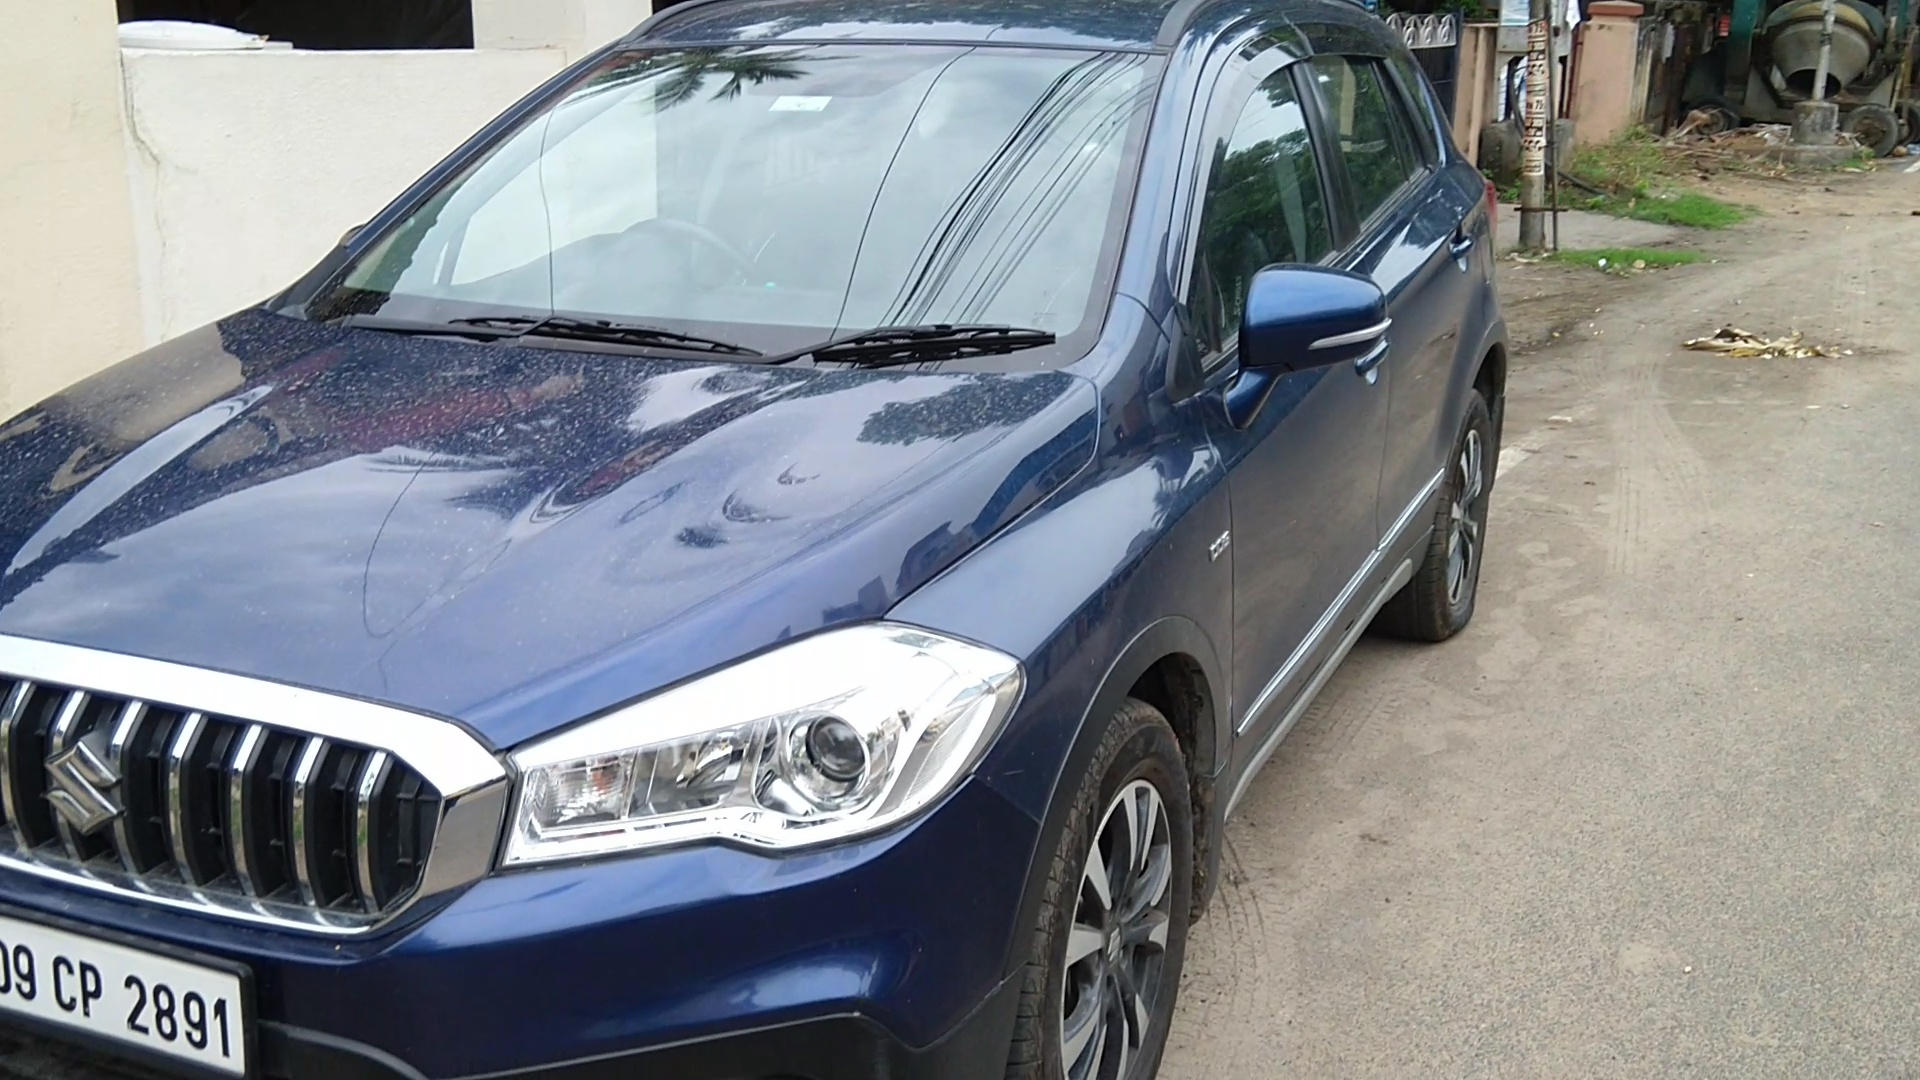alloy_wheel: (1026, 711, 1193, 1080), (1429, 393, 1501, 644)
headlamp: (497, 603, 1029, 924)
ovr_mirror: (1236, 255, 1403, 378)
